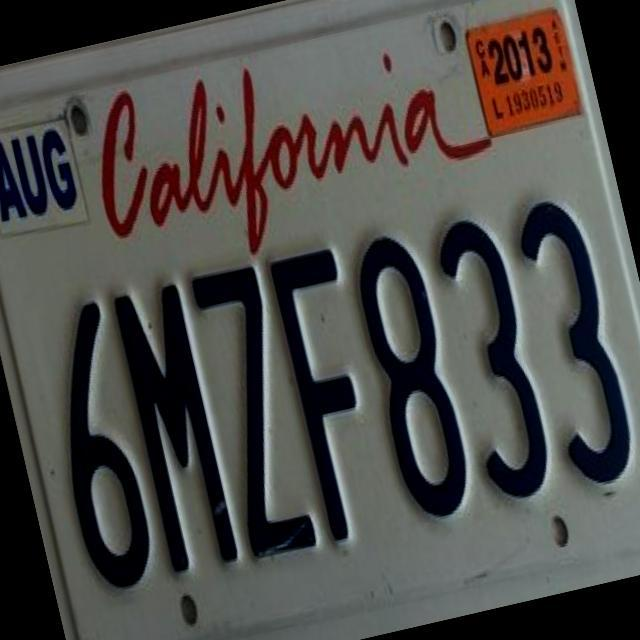Plat: (2, 1, 638, 638)
